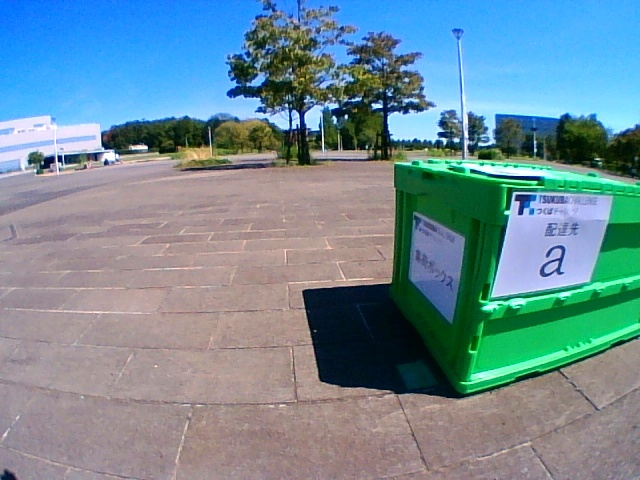green_box: (391, 160, 640, 394)
tag_a: (521, 199, 581, 282)
